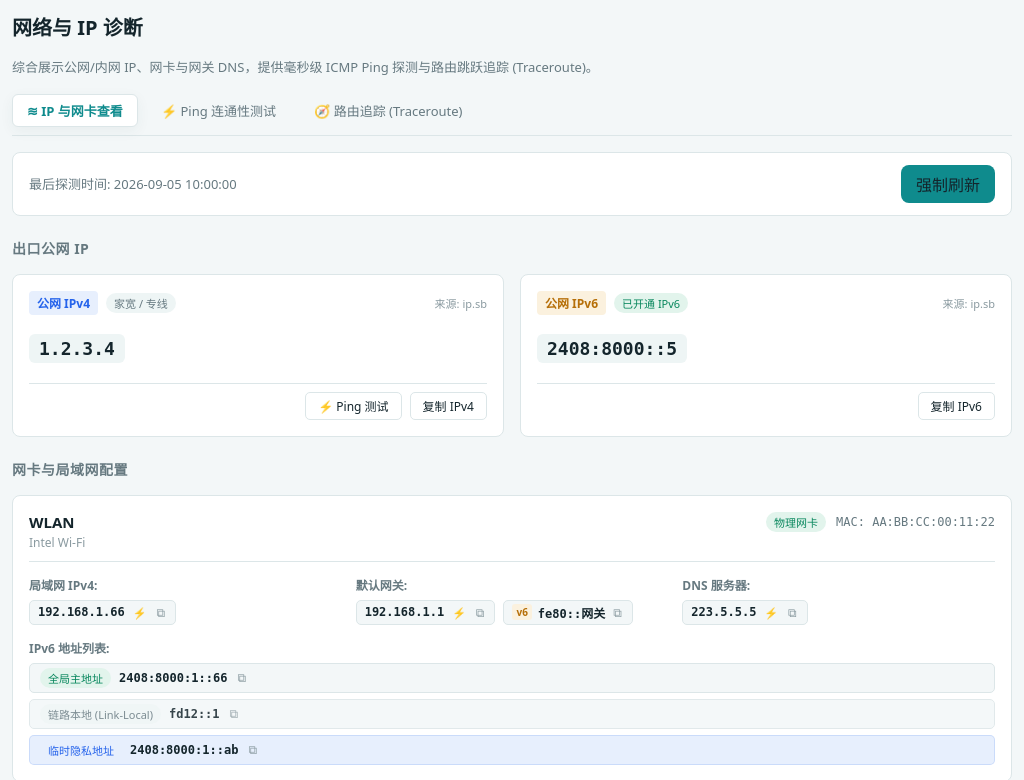
PublicIpView Traceroute Tab › 追踪结果：* 跳与最终目标徽标
Step 1. Click the button with class "tab-item" showing "🧭 路由追踪 (Traceroute)" → (388, 110), box [299, 94, 478, 127]
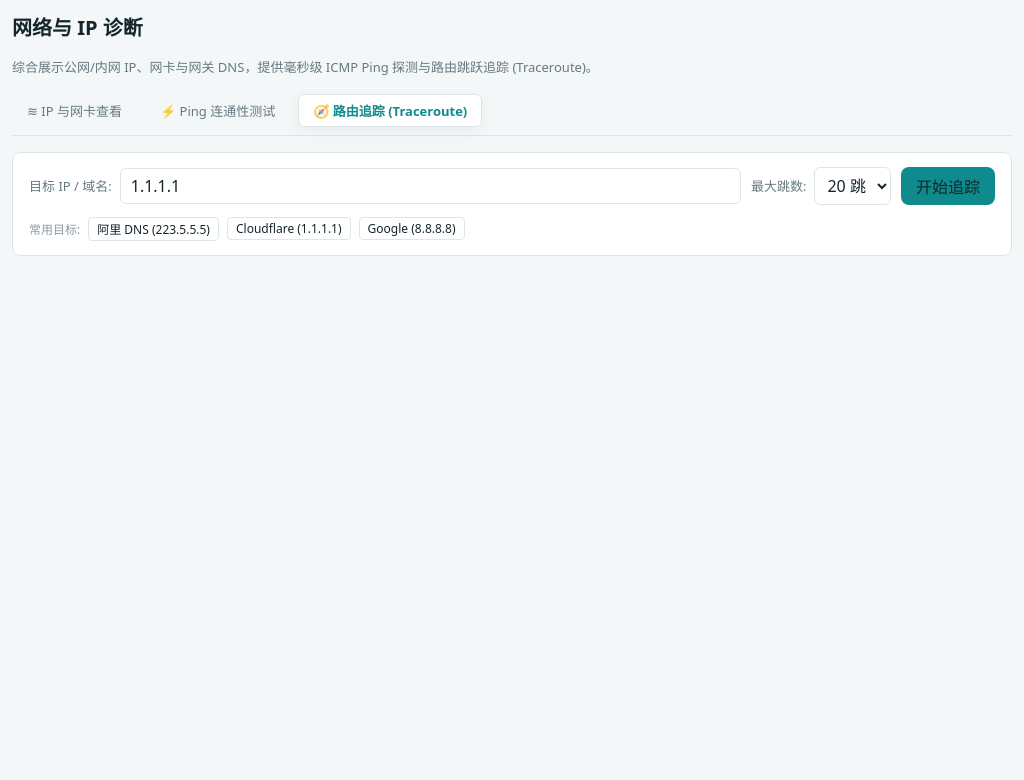
Step 2. Click the button "开始追踪" → (948, 186), box [901, 167, 995, 205]
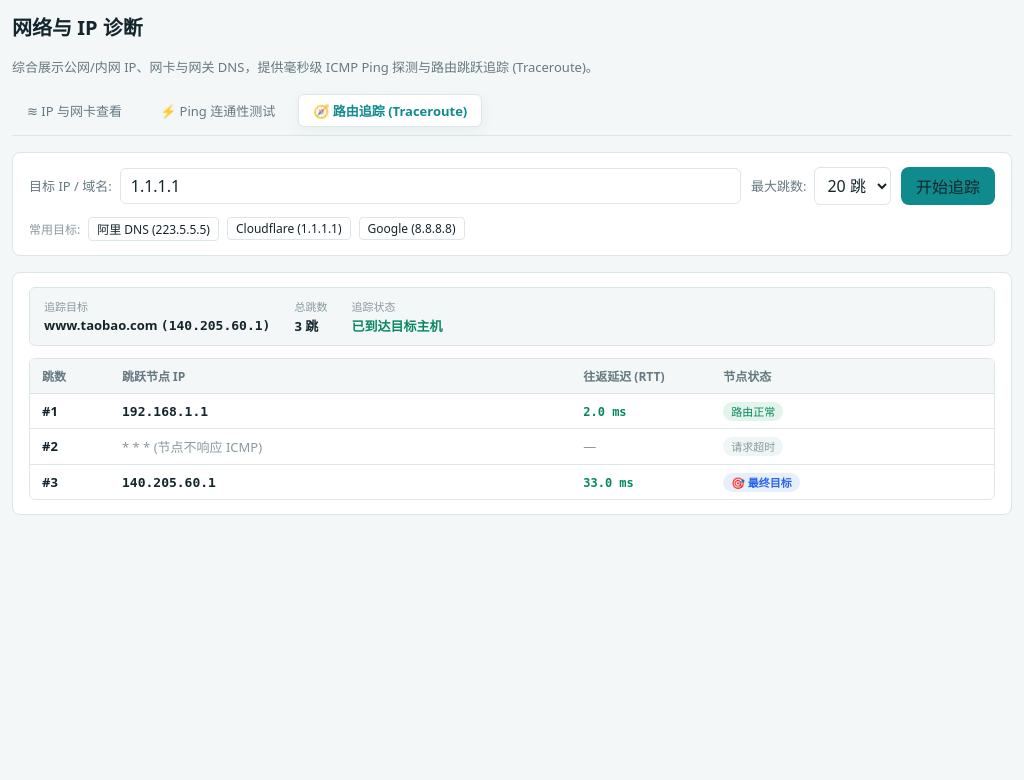
Check: the row "#2 * * * (节点不响应 ICMP) — 请求超时" is shown, box [30, 428, 994, 464]
Check: the element with class "diag-summary-bar" shows "3 跳", box [294, 317, 318, 335]
Check: the element with class "diag-summary-bar" shows "已到达目标主机", box [351, 317, 442, 335]
